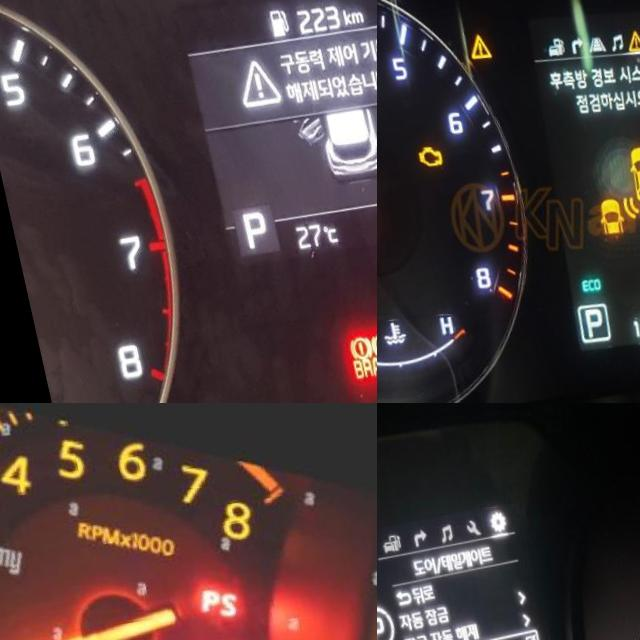Central Warning lamp: (458, 37, 486, 67), (616, 38, 638, 63)
